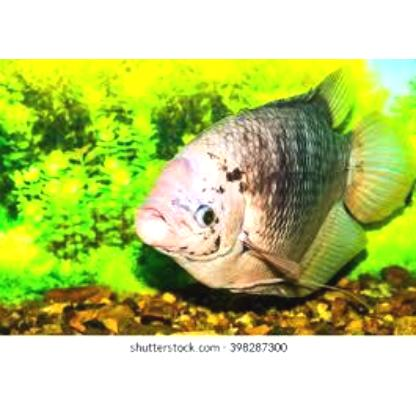gurame: (136, 92, 394, 296)
